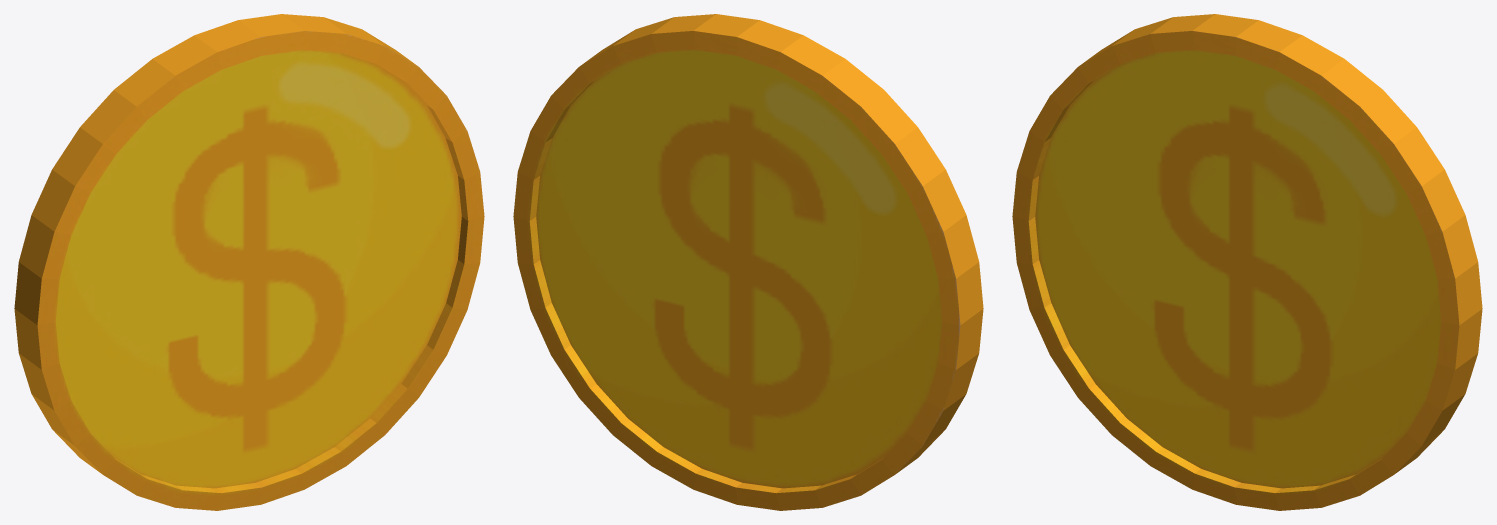
Rendered from coin.glb.
3 renders of one model, left to right at view 1: azimuth 30°, elevation 25°; view 2: azimuth 150°, elevation 25°; view 3: azimuth 330°, elevation 25°, orthographic.
Parts seen in each view (by area): view 1: Cylinder; view 2: Cylinder; view 3: Cylinder.
Boxes of the visible parts, box(x1,y1,x2,y2) form: Cylinder: box(14, 14, 484, 510); Cylinder: box(513, 14, 983, 510); Cylinder: box(1012, 14, 1482, 510).
Bounding box in the file's own units: 0.6 × 0.6 × 0.0581.
1 material, 1 textured.
